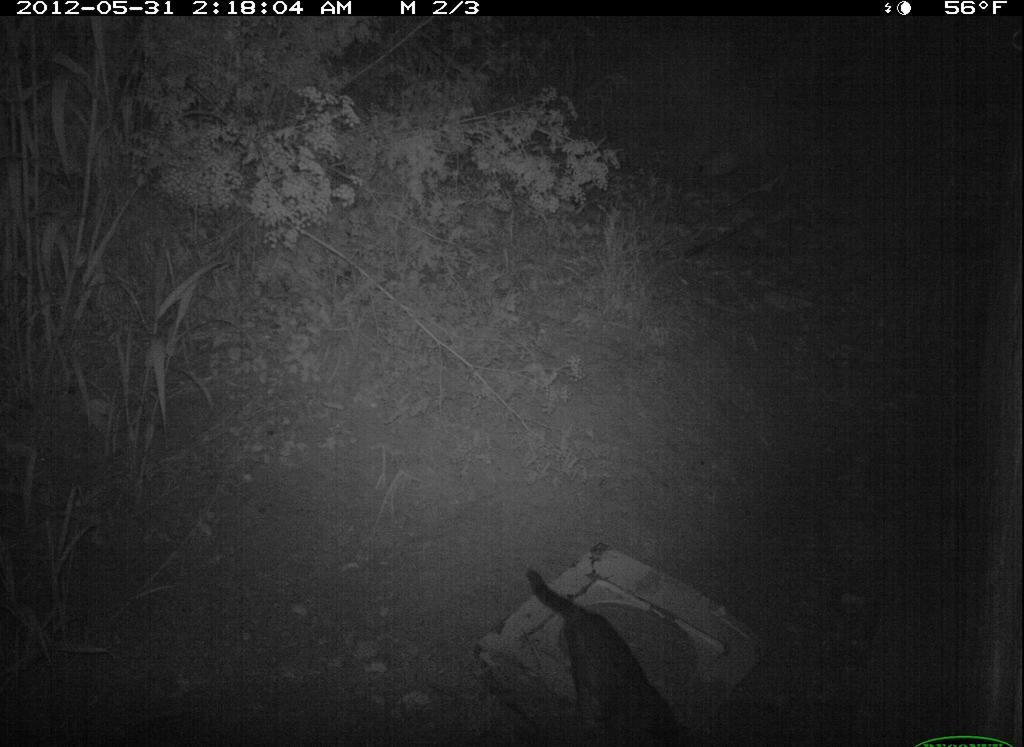cat: (518, 559, 701, 744)
